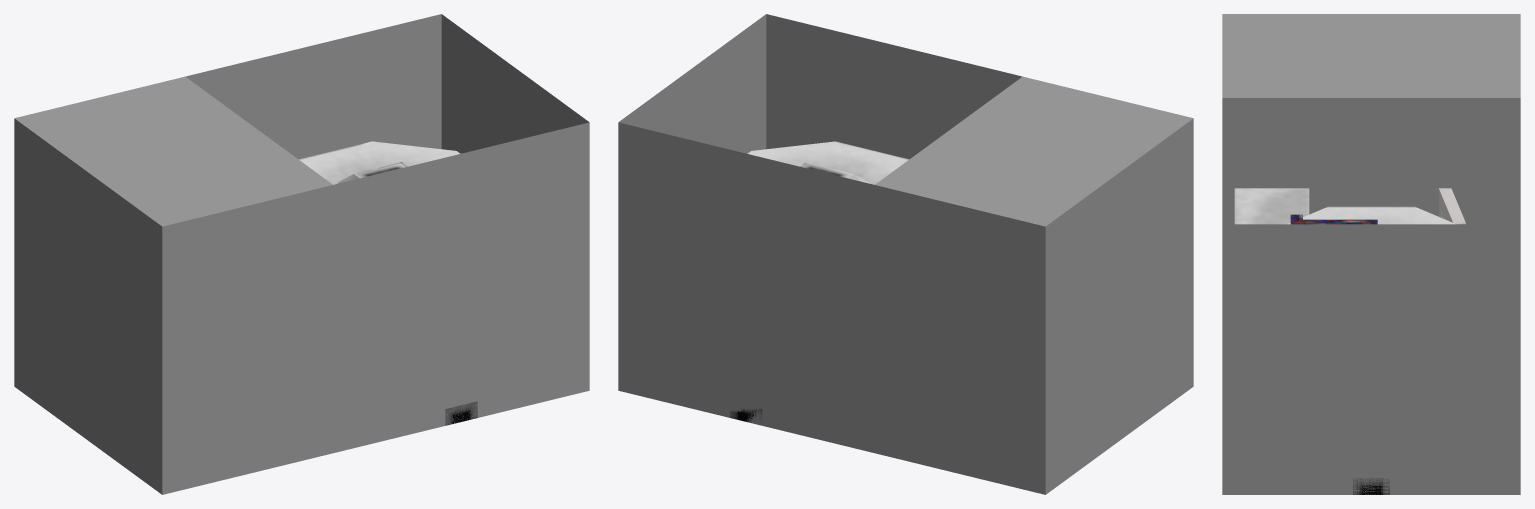
Rendered from Transporter.obj.
3 renders of one model, left to right at view 1: azimuth 30°, elevation 25°; view 2: azimuth 150°, elevation 25°; view 3: azimuth 270°, elevation 25°, orthographic.
Parts seen in each view (by area): view 1: Minecraft_Block_Cube, main; view 2: Minecraft_Block_Cube, main; view 3: Minecraft_Block_Cube, ext_power_Plane, main, ext_control_Plane.002.
Boxes of the visible parts, bbox=[...] form: Minecraft_Block_Cube: bbox=[14, 14, 589, 494]; main: bbox=[299, 141, 477, 425]; Minecraft_Block_Cube: bbox=[618, 14, 1193, 494]; main: bbox=[730, 141, 908, 422]; Minecraft_Block_Cube: bbox=[1222, 14, 1520, 494]; ext_power_Plane: bbox=[1234, 188, 1377, 224]; main: bbox=[1287, 206, 1455, 494]; ext_control_Plane.002: bbox=[1438, 188, 1465, 224].
Bounding box in the file's own units: 5 × 3 × 3.
5 materials, 3 textured.
